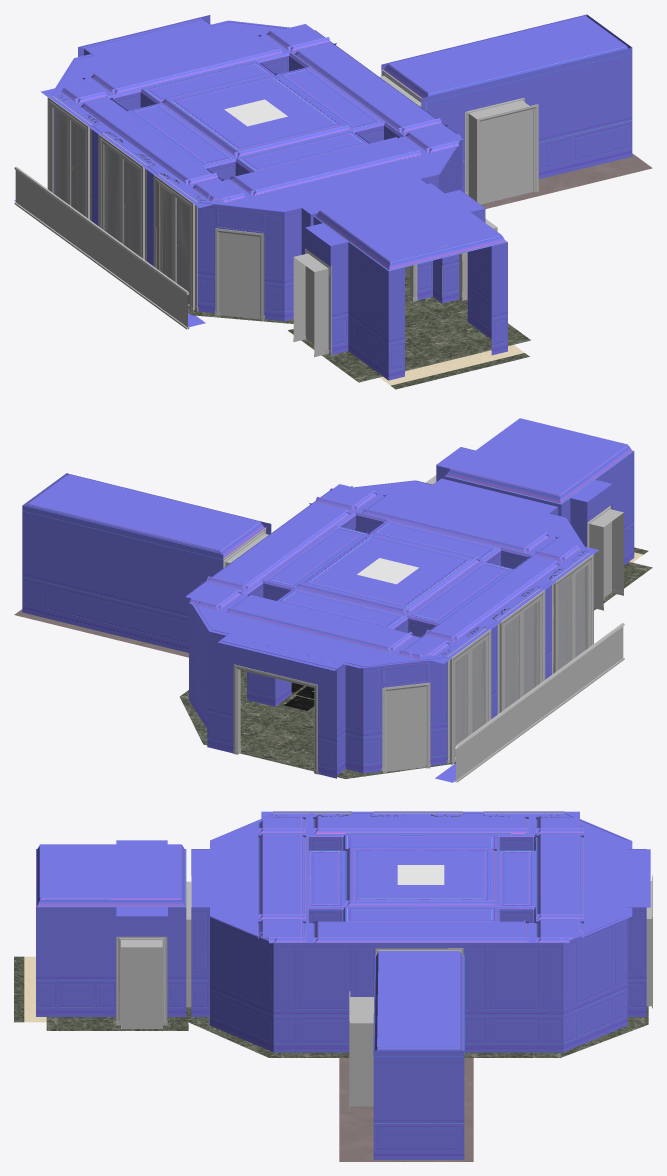
Rendered from CDC_CentreDeConferences.fbx.
3 views of the same model, one above another, from view 1: azimuth 30°, elevation 25°; view 2: azimuth 150°, elevation 25°; view 3: azimuth 270°, elevation 25° (orthographic). The views are drawn at different scales.
Parts seen in each view (by area): view 1: polySurface197, polySurface195, polySurface12; view 2: polySurface197, polySurface195, polySurface12; view 3: polySurface197, polySurface195.
Part boxes in pixels (x1=…): polySurface197: x1=14, y1=14, x2=652, y2=389; polySurface195: x1=47, y1=69, x2=538, y2=357; polySurface12: x1=53, y1=108, x2=189, y2=304; polySurface197: x1=14, y1=418, x2=652, y2=782; polySurface195: x1=223, y1=475, x2=623, y2=774; polySurface12: x1=455, y1=565, x2=588, y2=757; polySurface197: x1=14, y1=811, x2=650, y2=1161; polySurface195: x1=116, y1=811, x2=652, y2=1108.
Size of the model in its own units: 1419 by 316 by 1529.
